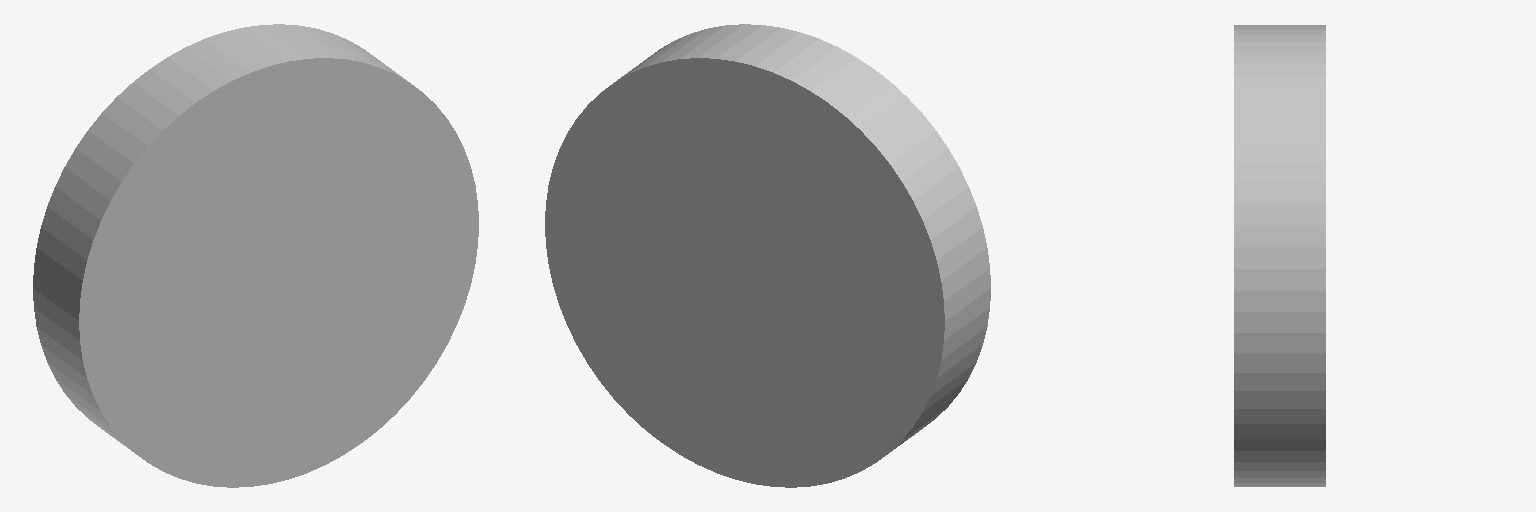
File: steering_hinge.obj
3 views of the same model, side by side, from view 1: azimuth 30°, elevation 25°; view 2: azimuth 150°, elevation 25°; view 3: azimuth 270°, elevation 25° (orthographic).
Parts seen in each view (by area): view 1: Sterzo; view 2: Sterzo; view 3: Sterzo.
Part boxes in pixels (left/top/right/bottom): Sterzo: left=33, top=24, right=478, bottom=487; Sterzo: left=545, top=24, right=990, bottom=487; Sterzo: left=1234, top=25, right=1325, bottom=486.
Size of the model in its own units: 50 by 49.94 by 10.